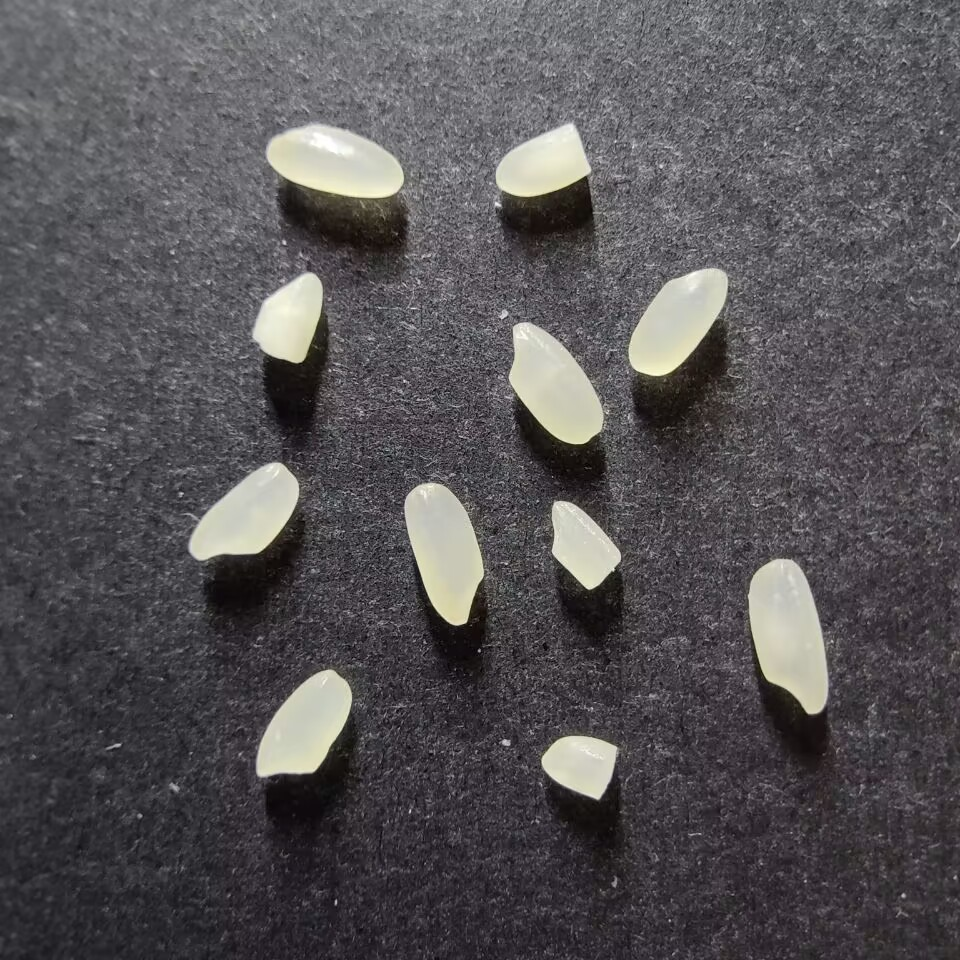broken: (494, 123, 590, 196), (252, 271, 323, 364), (550, 500, 622, 590), (541, 735, 617, 800)
rice: (747, 557, 828, 715), (507, 321, 603, 445), (403, 482, 484, 626), (187, 461, 299, 561), (627, 267, 728, 376), (254, 668, 352, 778), (265, 125, 403, 198)
